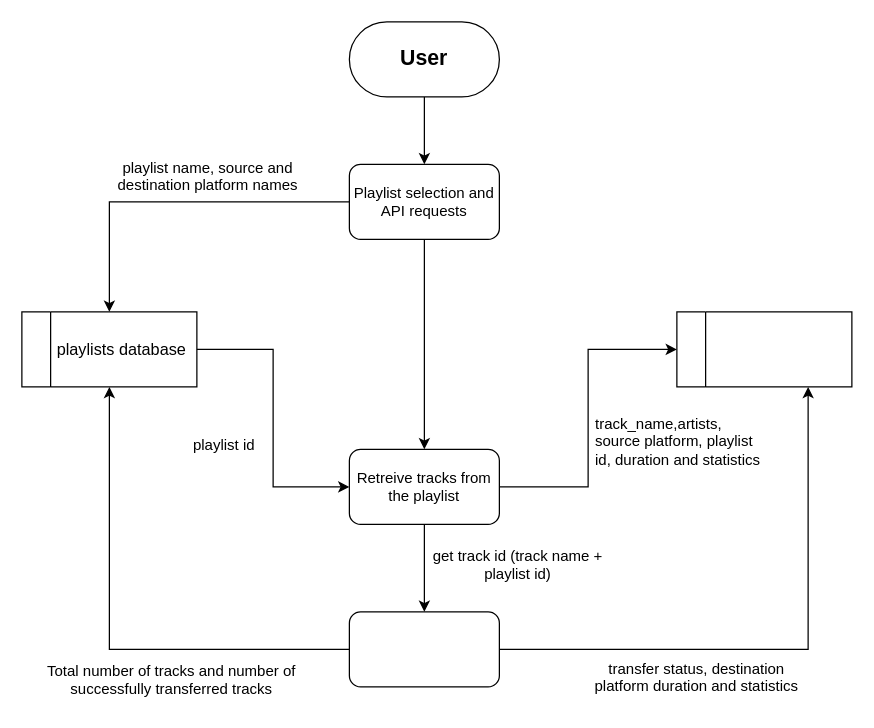
The diagram is 874 pixels wide and 728 high, and some of its shapes have lost their labels. The shapes that lost their labels are listed below. From the top down, each one's centre as x and y in pixels, then its label:
At point 764,349: "tracks database".
At point 423,649: "Process and modify".
